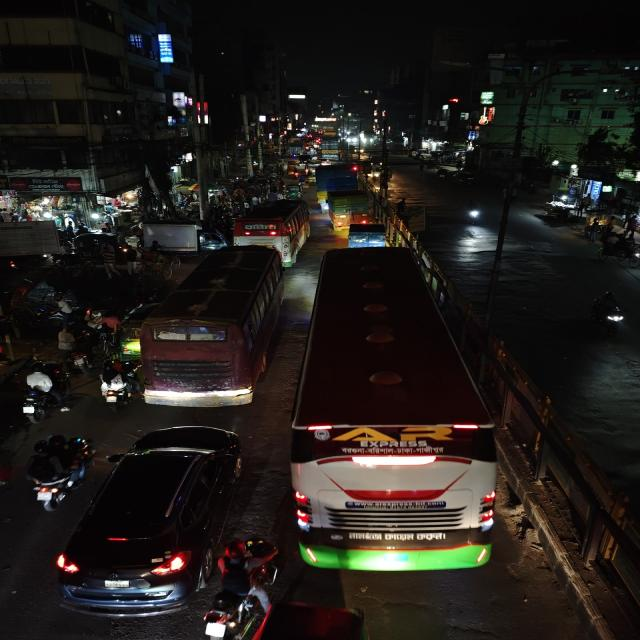bus: (289, 242, 505, 576), (138, 247, 286, 408), (231, 198, 313, 265)
car: (50, 423, 249, 623)
cng: (118, 312, 143, 356), (282, 182, 303, 200)
motorcycle: (199, 554, 279, 640), (22, 434, 92, 510), (17, 366, 72, 424), (586, 290, 629, 340), (93, 359, 133, 410), (462, 198, 486, 228)
rickshaw: (594, 235, 640, 267)
truck: (129, 218, 226, 253), (326, 189, 374, 228), (312, 166, 363, 200), (345, 222, 389, 247)
